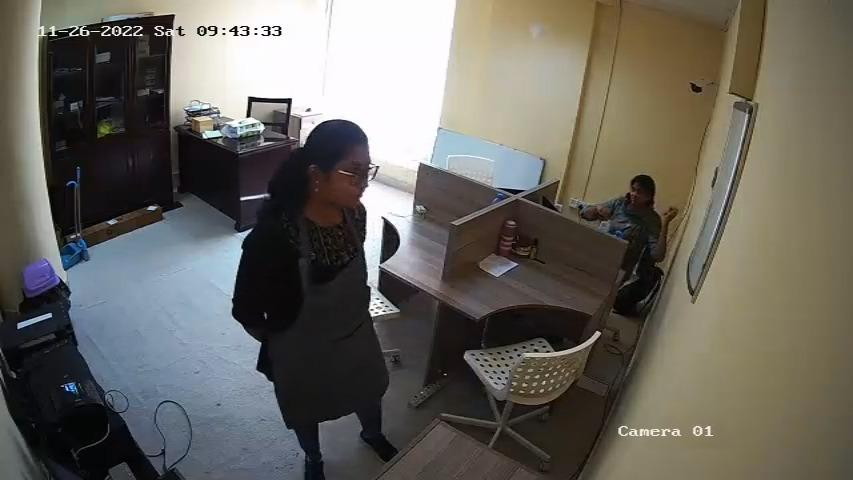apron: (270, 210, 369, 399)
